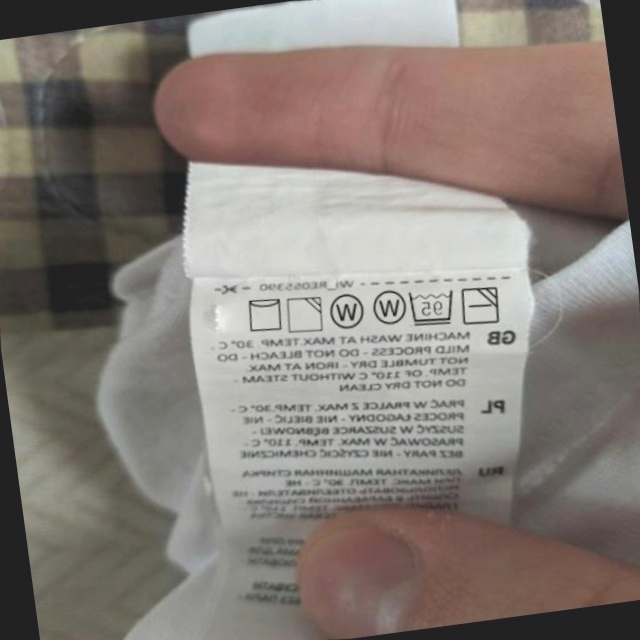95C: (403, 283, 459, 331)
dry_flat_in_shade: (457, 280, 505, 330)
line_dry: (241, 291, 288, 337)
shade_dry: (282, 291, 328, 338)
wet_clean: (366, 283, 410, 330), (325, 289, 369, 335)
